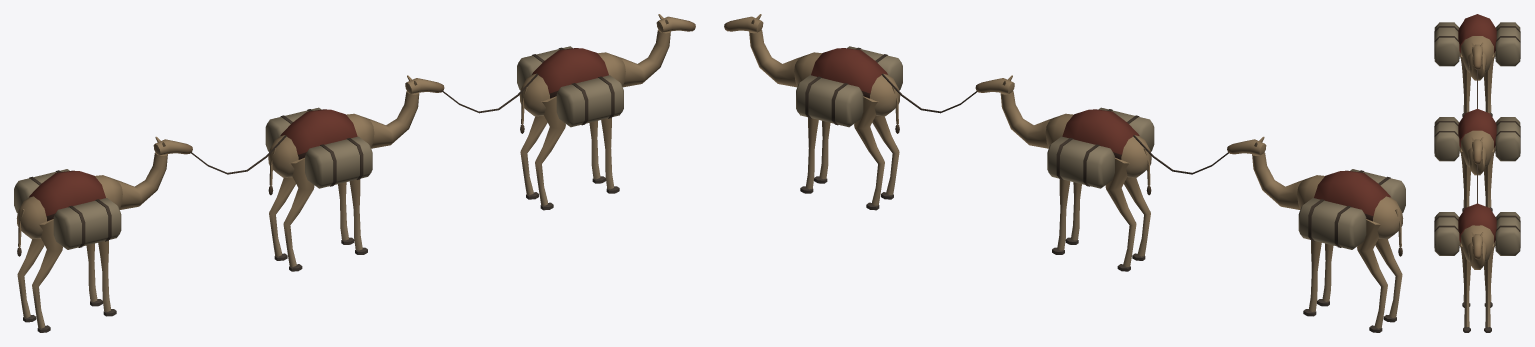
Rendered from actor-caravan.glb.
3 views of the same model, side by side, from view 1: azimuth 30°, elevation 25°; view 2: azimuth 150°, elevation 25°; view 3: azimuth 270°, elevation 25° (orthographic). The views are drawn at different scales.
Visible parts, largest first — view 1: body, head_1, head_2, head_3, leg_br_1, leg_br_2, leg_br_3, leg_bl_2, leg_bl_1, leg_bl_3, leg_fr_1, leg_fr_3 (+4 smaller); view 2: body, head_1, head_2, head_3, leg_bl_1, leg_bl_2, leg_bl_3, leg_br_2, leg_br_1, leg_br_3, leg_fl_1, leg_fl_3 (+4 smaller); view 3: body, head_1, head_2, head_3, leg_fl_1, leg_fr_1, leg_fl_3, leg_fr_3, leg_fl_2, leg_fr_2.
Boxes of the visible parts, left/top/right/bottom form: body: left=14, top=46, right=625, bottom=256; head_1: left=619, top=14, right=695, bottom=87; head_2: left=367, top=75, right=444, bottom=148; head_3: left=116, top=136, right=192, bottom=209; leg_br_1: left=535, top=96, right=565, bottom=210; leg_br_2: left=283, top=157, right=314, bottom=271; leg_br_3: left=32, top=219, right=62, bottom=332; leg_bl_2: left=269, top=177, right=295, bottom=260; leg_bl_1: left=520, top=115, right=547, bottom=199; leg_bl_3: left=17, top=238, right=44, bottom=322; leg_fr_1: left=601, top=118, right=619, bottom=193; leg_fr_3: left=98, top=241, right=116, bottom=316; body: left=794, top=46, right=1405, bottom=256; head_1: left=724, top=14, right=800, bottom=87; head_2: left=975, top=75, right=1052, bottom=148; head_3: left=1227, top=136, right=1303, bottom=209; leg_bl_1: left=854, top=96, right=884, bottom=210; leg_bl_2: left=1105, top=157, right=1136, bottom=271; leg_bl_3: left=1357, top=219, right=1387, bottom=332; leg_br_2: left=1124, top=177, right=1150, bottom=260; leg_br_1: left=872, top=115, right=899, bottom=199; leg_br_3: left=1375, top=238, right=1402, bottom=322; leg_fl_1: left=800, top=118, right=818, bottom=193; leg_fl_3: left=1303, top=241, right=1321, bottom=316; body: left=1434, top=14, right=1520, bottom=261; head_1: left=1468, top=232, right=1486, bottom=269; head_2: left=1468, top=137, right=1486, bottom=175; head_3: left=1468, top=42, right=1486, bottom=80; leg_fl_1: left=1484, top=243, right=1493, bottom=332; leg_fr_1: left=1461, top=243, right=1470, bottom=332; leg_fl_3: left=1484, top=54, right=1493, bottom=113; leg_fr_3: left=1461, top=54, right=1470, bottom=113; leg_fl_2: left=1484, top=149, right=1493, bottom=207; leg_fr_2: left=1461, top=149, right=1470, bottom=207.
Size of the model in its own units: 9.69 by 2.15 by 1.39.
